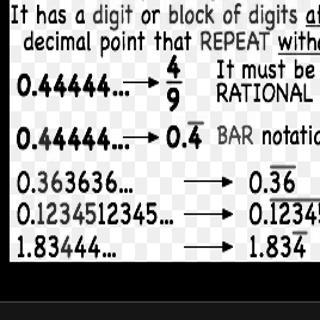.: (179, 140, 189, 154), (30, 141, 39, 154), (262, 215, 269, 231), (30, 89, 39, 99), (255, 250, 265, 259), (124, 143, 133, 152), (123, 89, 131, 99), (28, 186, 37, 194), (117, 141, 123, 153), (110, 141, 117, 151), (112, 88, 118, 99), (27, 251, 35, 259), (263, 185, 269, 195), (30, 218, 36, 226), (118, 89, 123, 98)
0: (13, 123, 32, 154), (247, 198, 264, 231), (14, 70, 32, 101), (14, 168, 31, 195), (164, 123, 181, 149), (14, 200, 30, 227), (247, 167, 262, 195)
1: (13, 232, 29, 259), (245, 232, 257, 259), (96, 200, 107, 228)
2: (106, 203, 119, 227)
3: (90, 166, 104, 199), (63, 168, 77, 197), (278, 231, 291, 259), (120, 199, 132, 229), (47, 231, 58, 259)
4: (165, 53, 183, 80), (52, 122, 67, 154), (67, 122, 82, 154), (37, 70, 52, 100), (51, 71, 66, 101), (66, 71, 81, 101), (81, 72, 96, 102), (96, 72, 111, 102), (72, 233, 89, 259), (81, 126, 97, 153), (96, 127, 112, 154), (131, 201, 145, 229), (90, 233, 101, 259)
5: (145, 198, 160, 230)
6: (77, 170, 91, 195), (105, 170, 118, 195)
8: (33, 232, 48, 260), (266, 233, 279, 259)
9: (163, 87, 182, 115)
